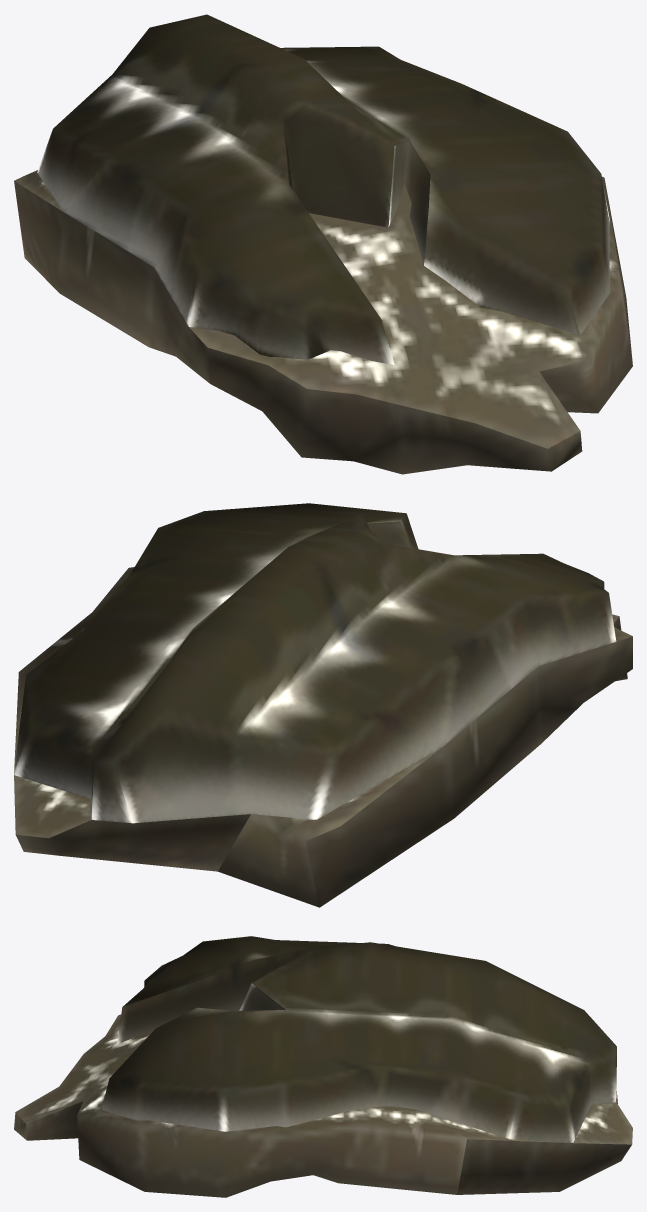
File: Item_Enemy_56.glb
3 views of the same model, one above another, from view 1: azimuth 30°, elevation 25°; view 2: azimuth 150°, elevation 25°; view 3: azimuth 270°, elevation 25° (orthographic). The views are drawn at different scales.
Visible parts, largest first — view 1: Item_Enemy_56; view 2: Item_Enemy_56; view 3: Item_Enemy_56.
Part boxes in pixels (bbox=[...]): Item_Enemy_56: bbox=[14, 14, 632, 474]; Item_Enemy_56: bbox=[14, 503, 632, 907]; Item_Enemy_56: bbox=[14, 936, 632, 1197].
Size of the model in its own units: 0.9441 by 0.4881 by 1.5.
Materials: 2 (2 with a texture image).
